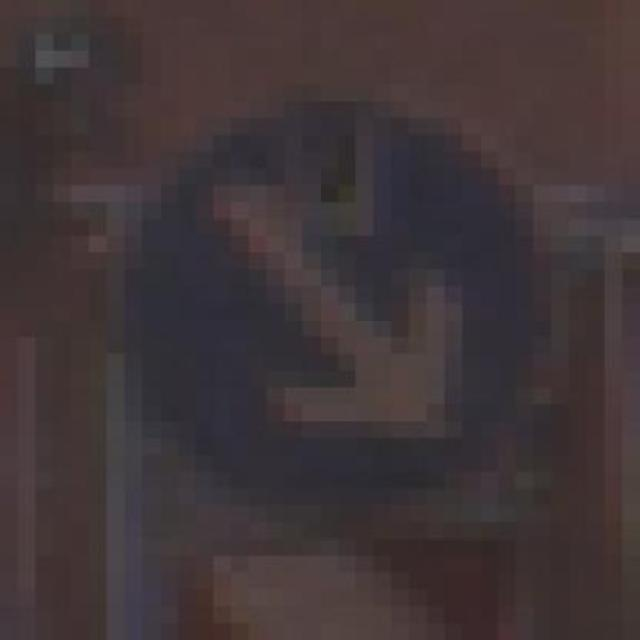Keep-Right: (89, 101, 586, 539)
